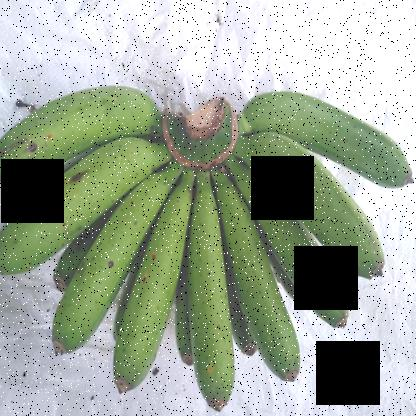unripe: (1, 134, 151, 292), (229, 70, 416, 191), (0, 63, 164, 197), (249, 129, 395, 268), (167, 168, 244, 412)
